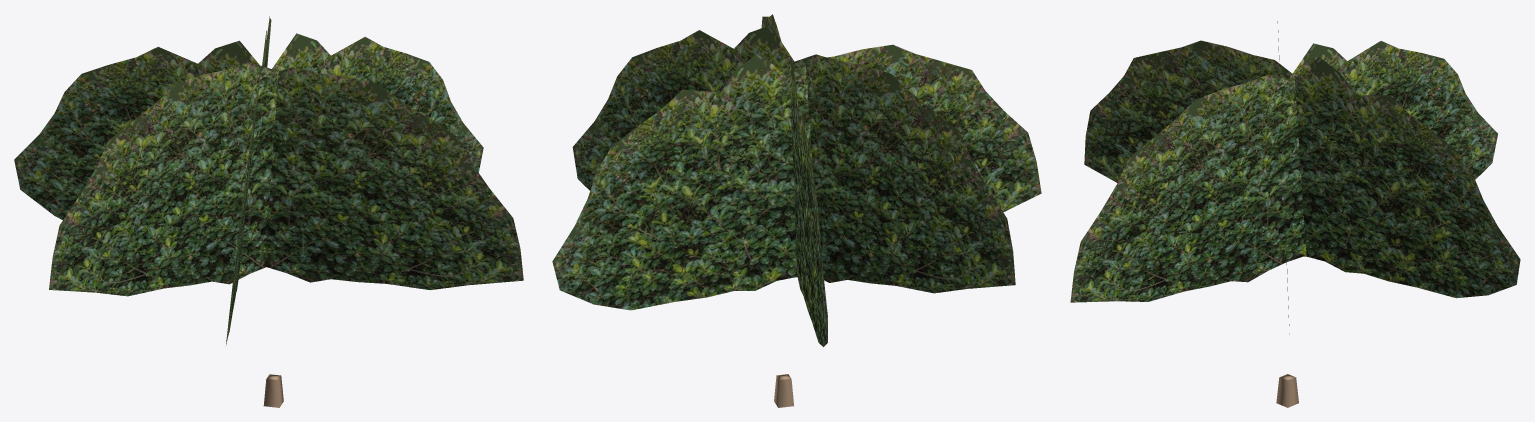
Rendered from under_shrub.glb.
The picture shows the model from 3 angles, left to right: view 1: azimuth 30°, elevation 25°; view 2: azimuth 150°, elevation 25°; view 3: azimuth 270°, elevation 25°; orthographic projection. The views are drawn at different scales.
Visible parts, largest first — view 1: leaf, woodBark; view 2: leaf, woodBark; view 3: leaf, woodBark.
Part boxes in pixels (box(x1,y1,x2,y2)): leaf: box(14, 16, 523, 344); woodBark: box(263, 374, 283, 407); leaf: box(552, 14, 1041, 346); woodBark: box(774, 374, 793, 407); leaf: box(1070, 21, 1520, 334); woodBark: box(1276, 374, 1298, 407).
Bounding box in the file's own units: 0.8699 × 0.7009 × 0.7936.
Materials: 2 (1 with a texture image).
